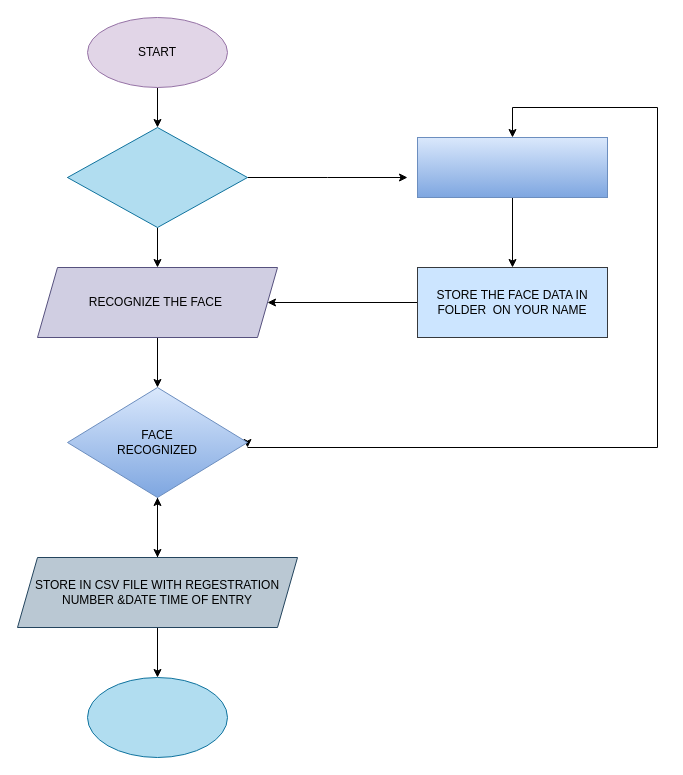
Image size: 683x775. Some labels were removed from this diagram. Here are the shapes that lost their labels. From the top down, the centre of each, then its label:
point 157,177: NEW USER
point 512,167: GIVE YOUR PHOTOGRAPH
point 157,717: END
